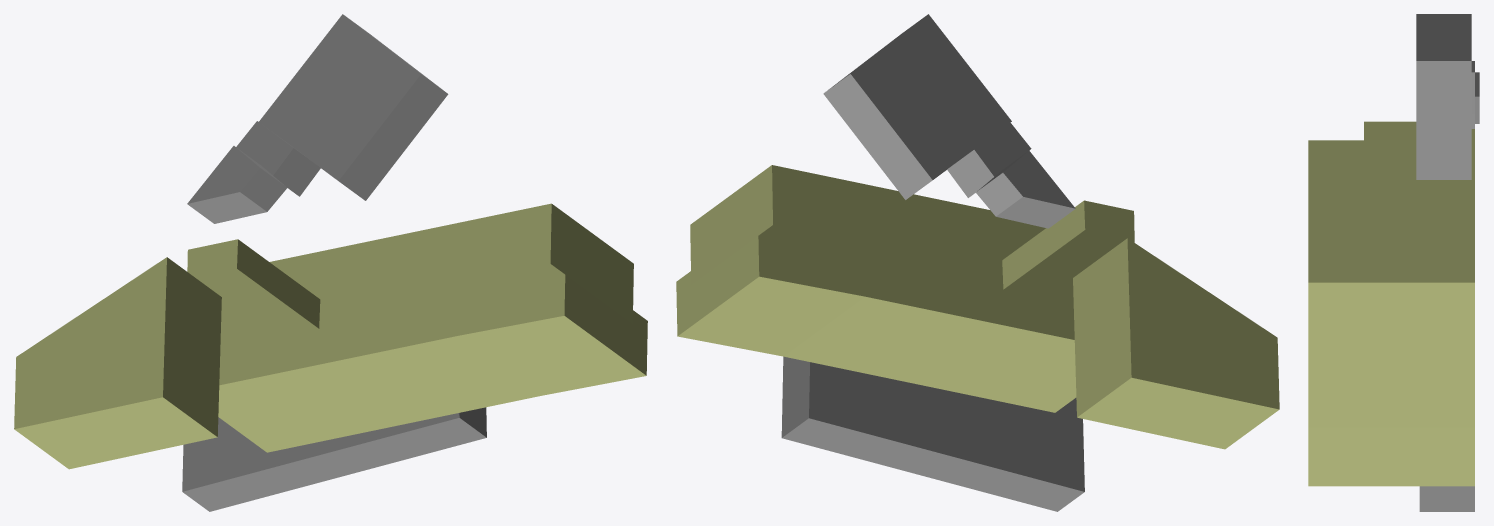
3 views of the same model, side by side, from view 1: azimuth 30°, elevation 25°; view 2: azimuth 150°, elevation 25°; view 3: azimuth 270°, elevation 25° (orthographic).
Parts seen in each view (by area): view 1: 0_1_2_0_0_2_1_1_1; view 2: 0_1_2_0_0_2_1_1_1; view 3: 0_1_2_0_0_2_1_1_1.
Boxes of the visible parts, bbox=[...] form: 0_1_2_0_0_2_1_1_1: bbox=[14, 14, 647, 511]; 0_1_2_0_0_2_1_1_1: bbox=[676, 14, 1279, 511]; 0_1_2_0_0_2_1_1_1: bbox=[1308, 14, 1479, 511].
Bounding box in the file's own units: 34.84 × 26.59 × 9.25.
